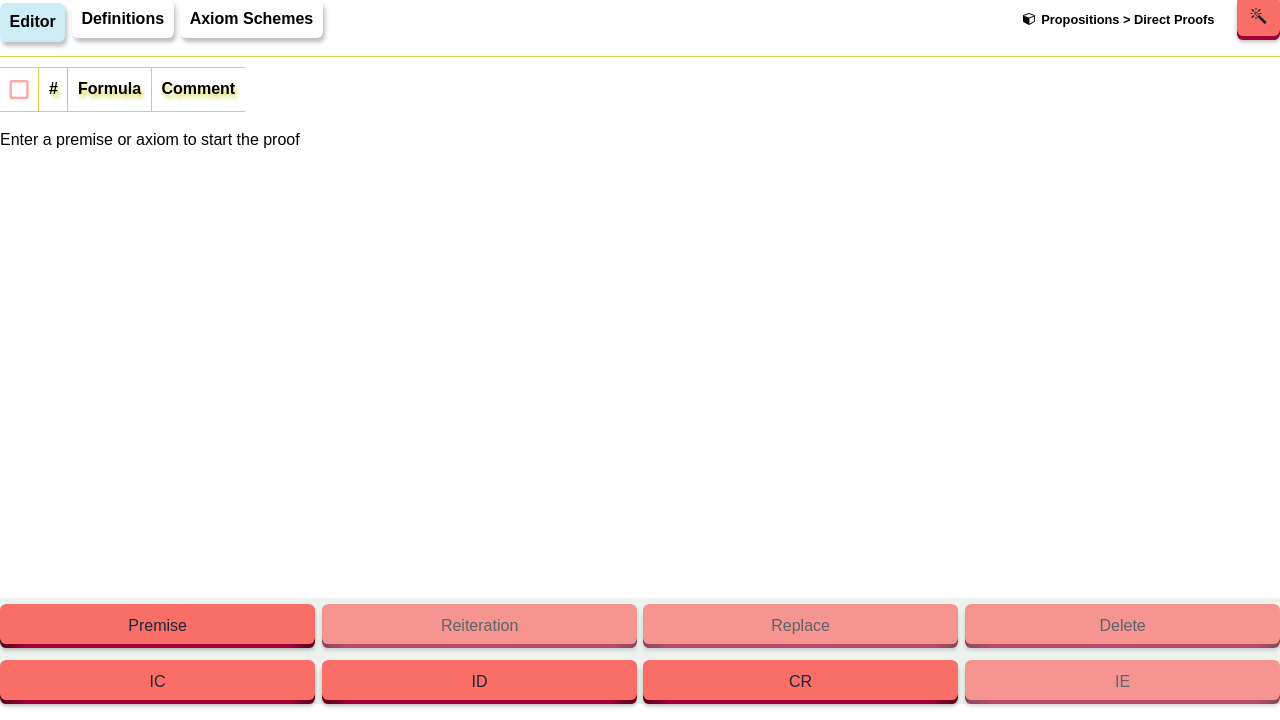
Test: Direct Proofs Editor tests: › on click Implication Creation button the popup is appeared
What coordinates should you click on to do the following:
click the button titled "Implication Creation"
I would click on:
 (158, 684)
Its box is [0,664,315,704].
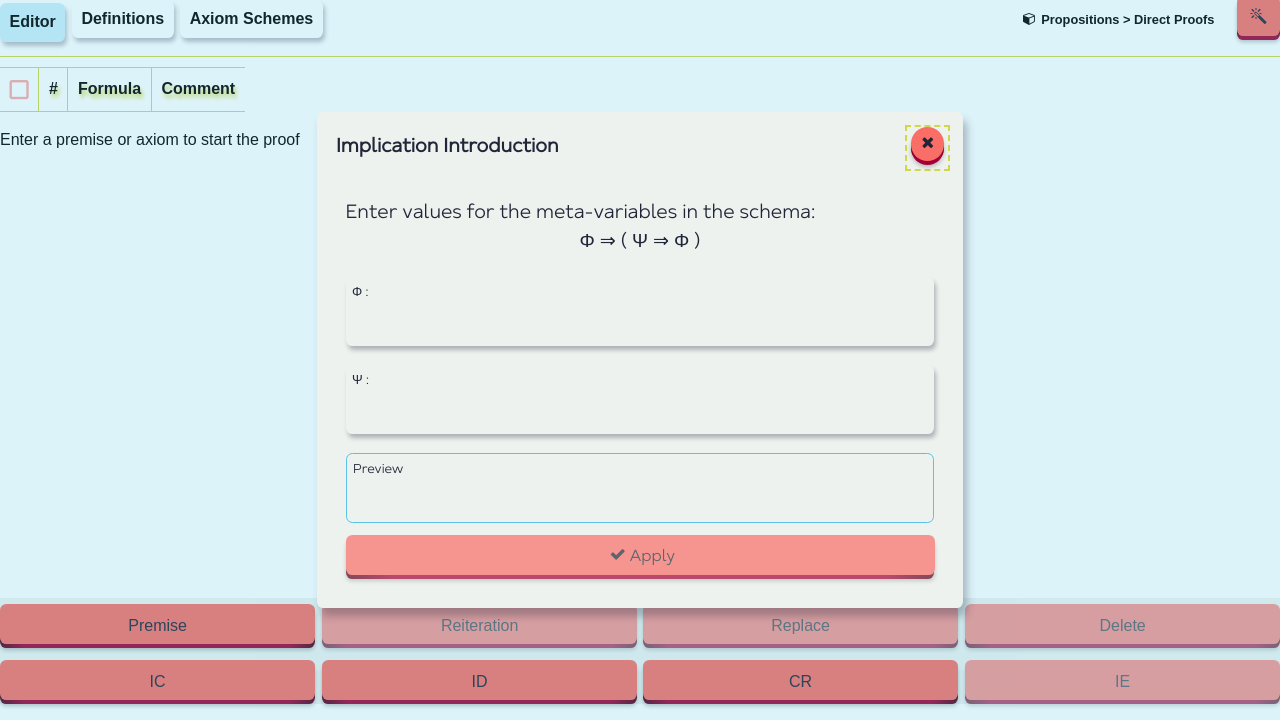
Check: the dialog is shown, box [317,112,963,608]
Check: the form is shown, box [346,277,934,579]
